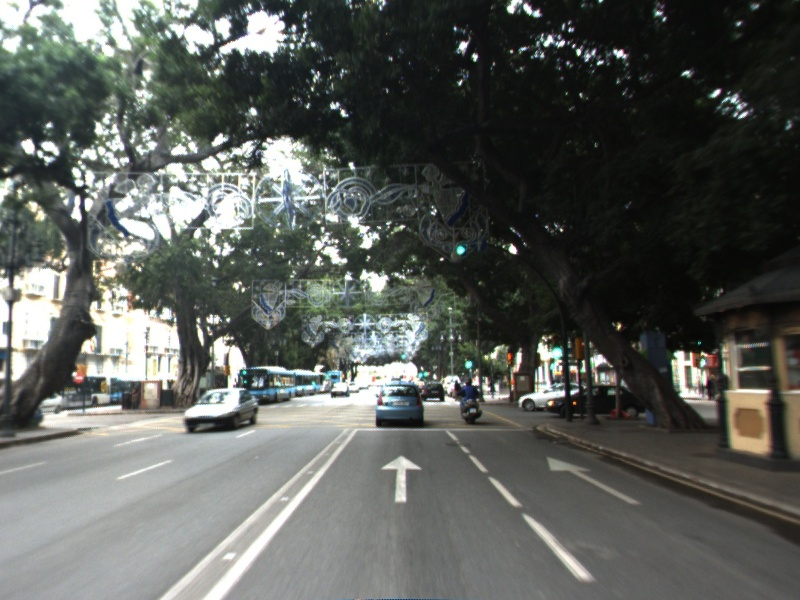STRAIGHT: (545, 455, 645, 507), (379, 453, 425, 505)
